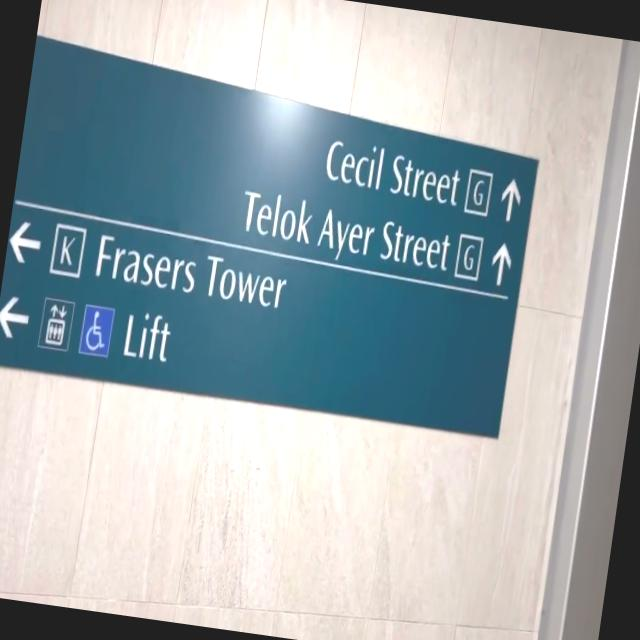lift_icon: (38, 296, 72, 354)
